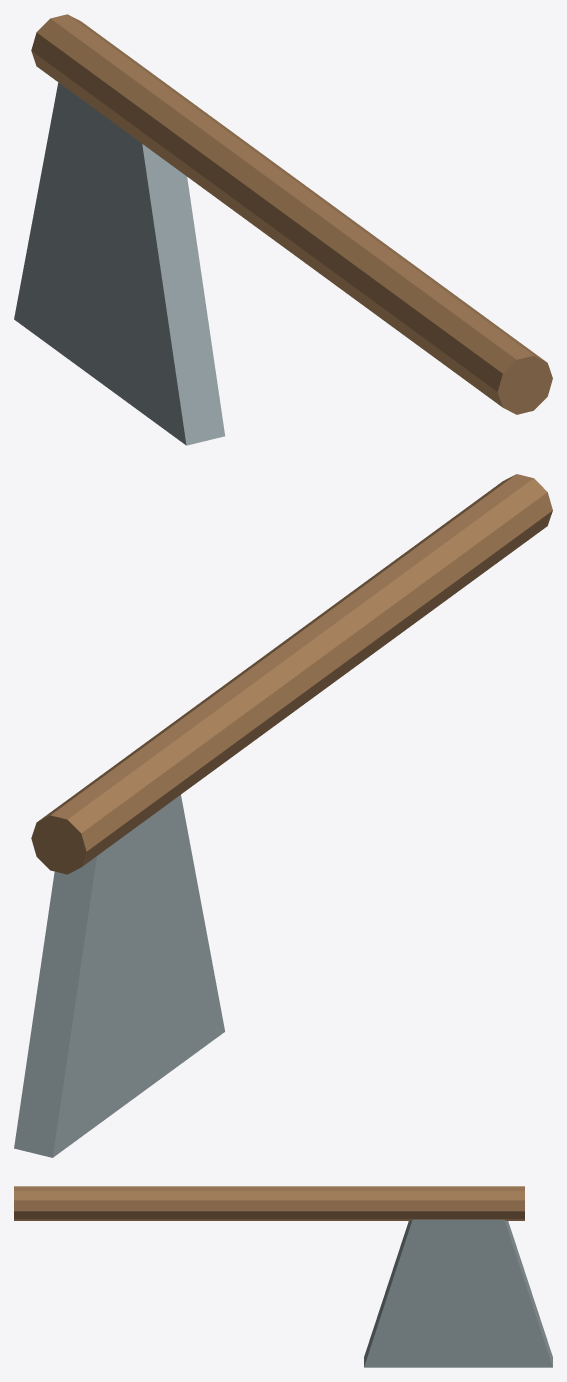
The model's file is Tool_Axe.fbx.
The picture shows the model from 3 angles, top to bottom: view 1: azimuth 30°, elevation 25°; view 2: azimuth 150°, elevation 25°; view 3: azimuth 270°, elevation 25°; orthographic projection. The views are drawn at different scales.
Parts seen in each view (by area): view 1: Tool_Axe; view 2: Tool_Axe; view 3: Tool_Axe.
Boxes of the visible parts, <box> form: Tool_Axe: <box>14,14,552,445</box>; Tool_Axe: <box>14,474,552,1157</box>; Tool_Axe: <box>14,1186,552,1367</box>.
Bounding box in the file's own units: 0.05 × 0.2738 × 0.77.
